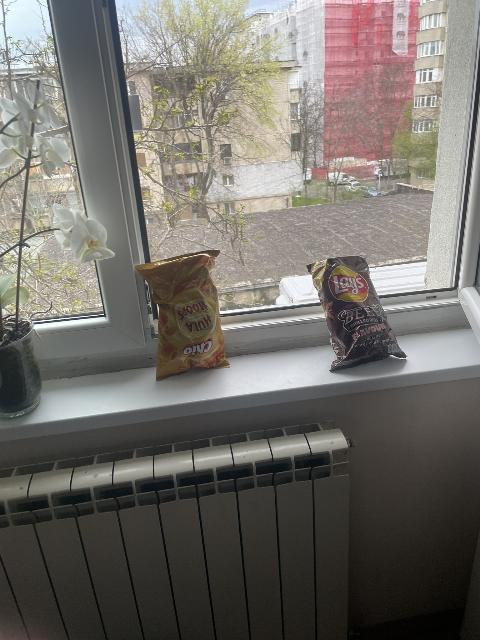Chio Hula Hoops Cheese 70g: (133, 249, 230, 378)
Lays Beef Grilled Ribs 125g: (312, 255, 406, 370)
